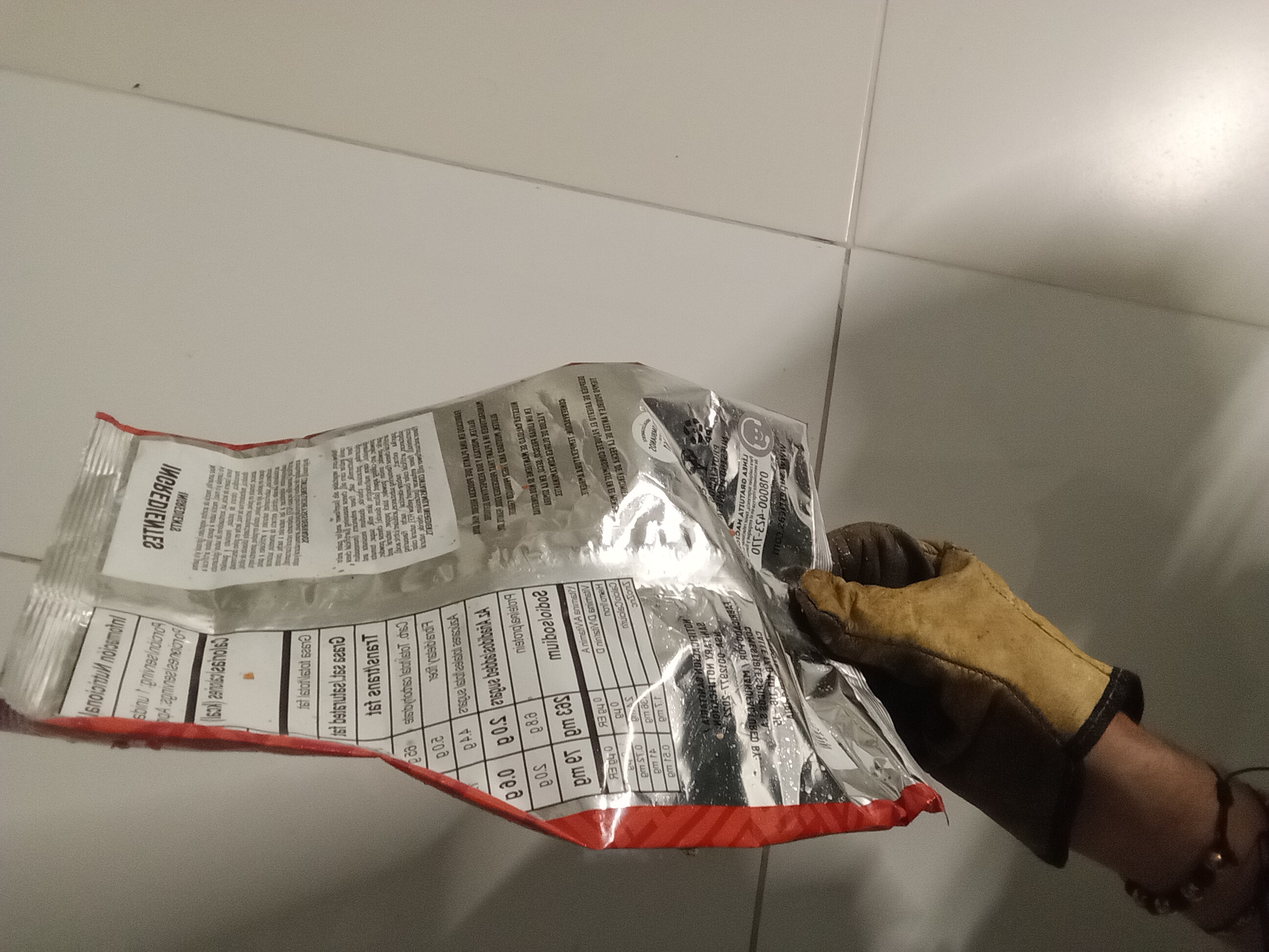Ordinario: (0, 364, 946, 850)
